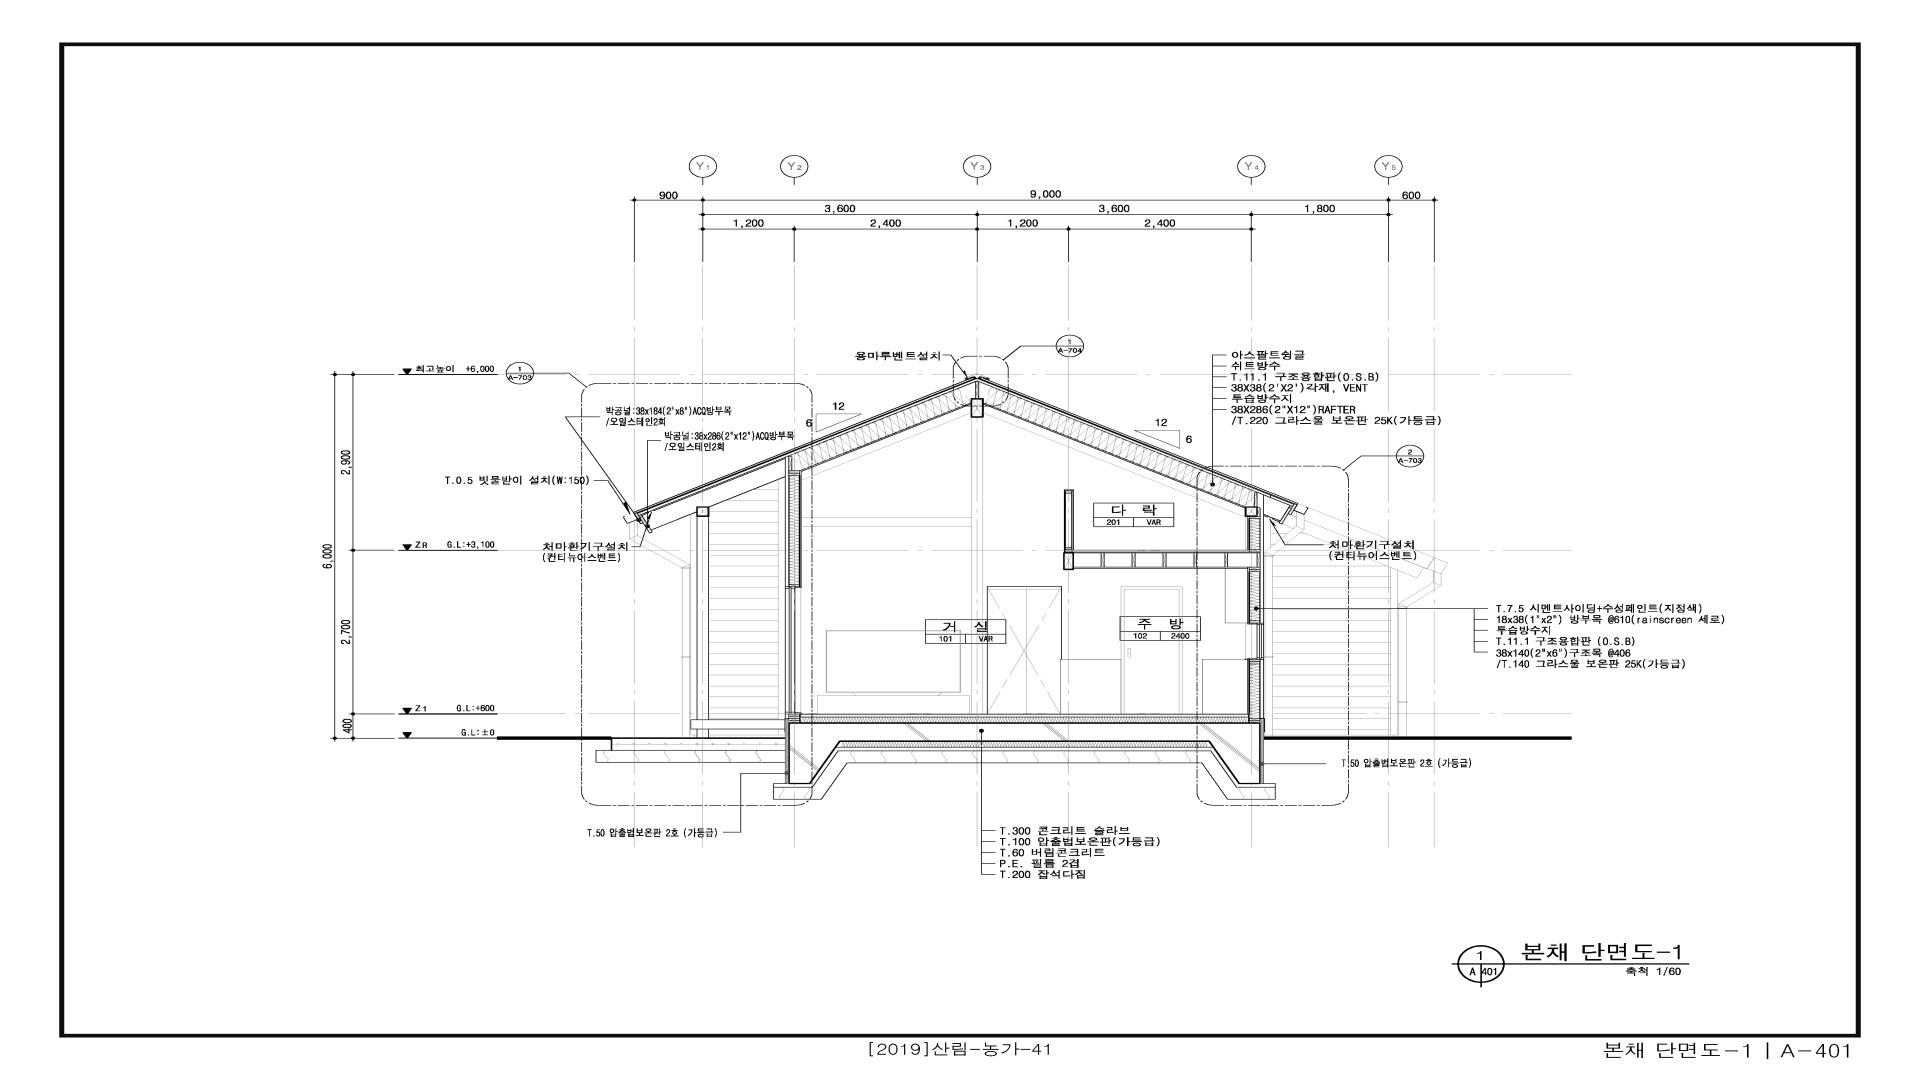door: (1121, 587, 1183, 713)
wall: (978, 376, 1448, 736), (633, 376, 976, 737), (789, 723, 1259, 785), (773, 748, 1275, 787), (1063, 489, 1257, 570)
window: (785, 587, 800, 715), (1251, 624, 1263, 659)
